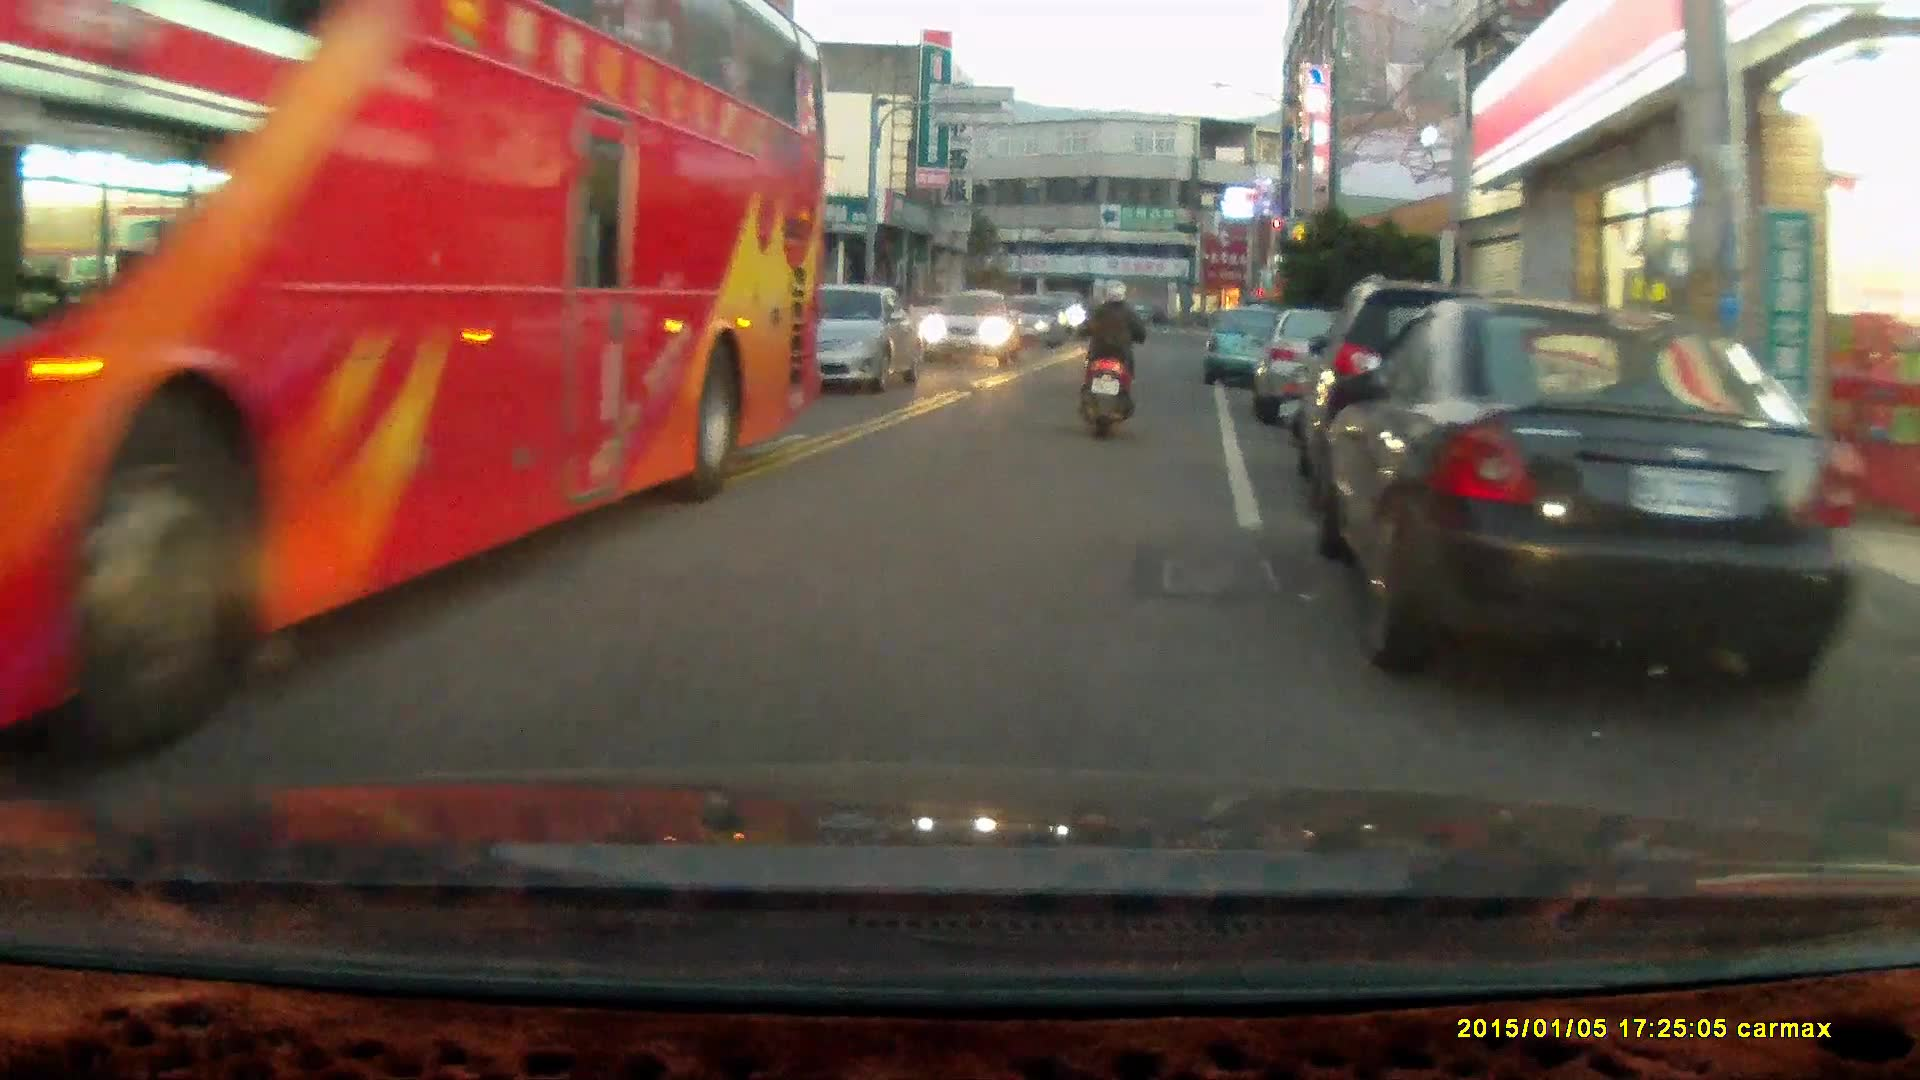rider: (1075, 277, 1147, 437)
vehicle: (1, 9, 833, 725), (1318, 301, 1880, 725), (1298, 270, 1559, 517), (1247, 305, 1450, 434), (759, 284, 920, 395), (922, 286, 1027, 366), (1205, 303, 1299, 390)
